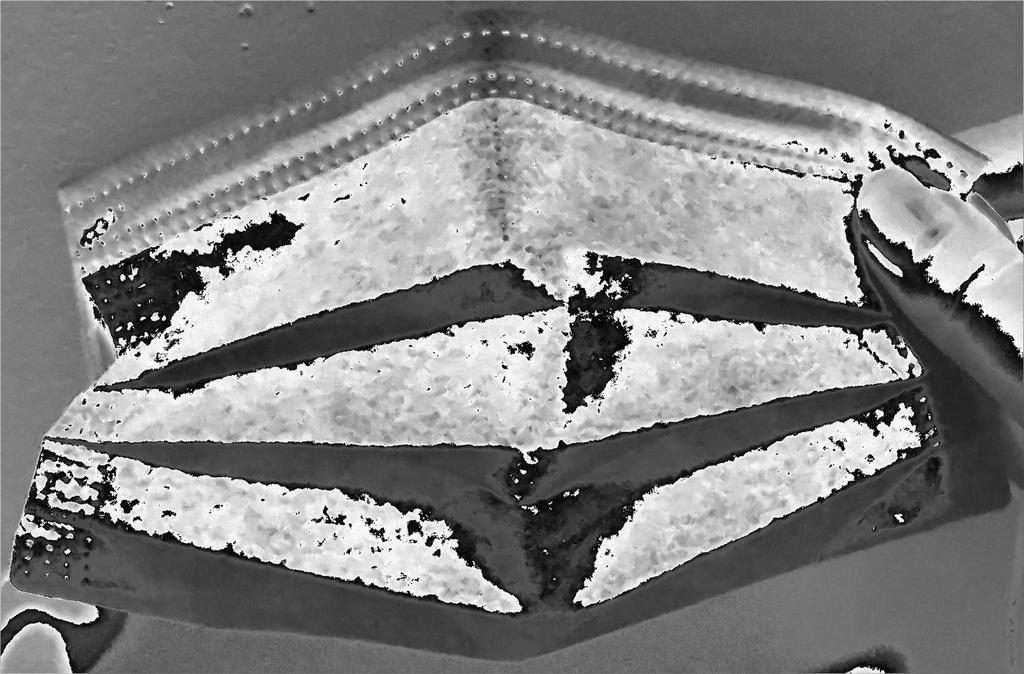High GSM: (126, 118, 848, 602)
